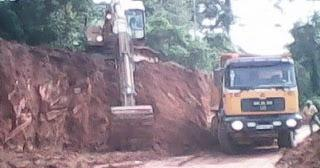ExcavationMachinery: (85, 1, 160, 151), (210, 50, 300, 164)
Person: (302, 100, 320, 135)
